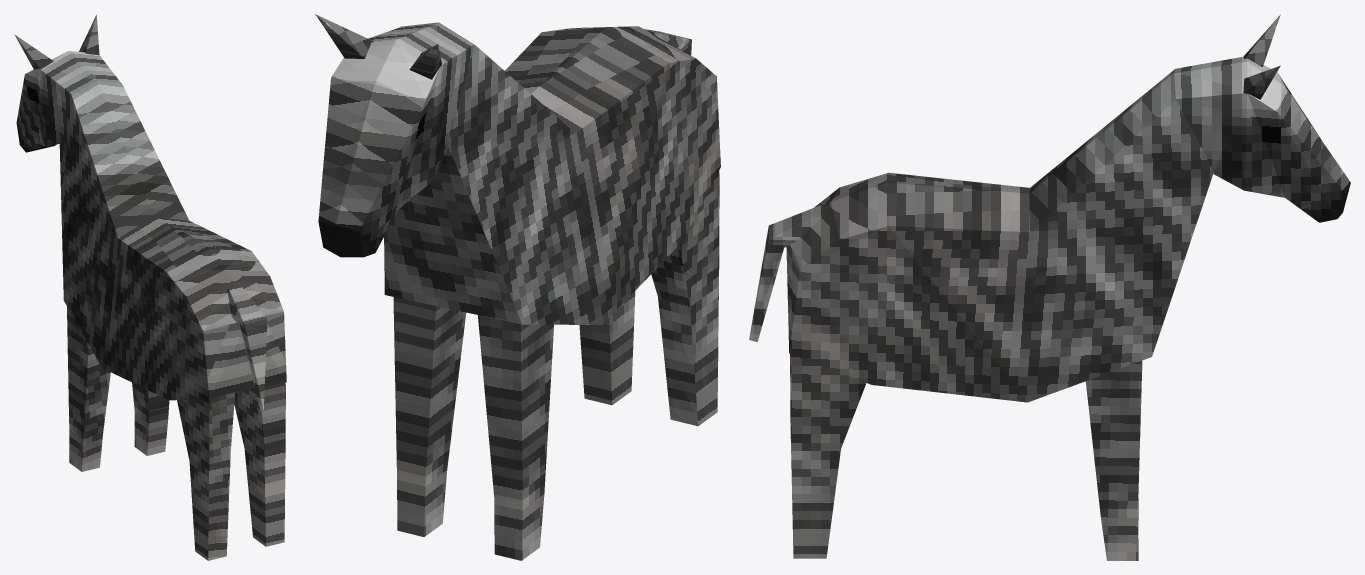
The model's file is Zebra_Zebra.glb.
3 renders of one model, left to right at view 1: azimuth 30°, elevation 25°; view 2: azimuth 150°, elevation 25°; view 3: azimuth 270°, elevation 25°, orthographic. The views are drawn at different scales.
Parts seen in each view (by area): view 1: Body, Leg3, Leg4, Head, Leg1, Leg2; view 2: Body, Head, Leg1, Leg2, Leg3, Leg4; view 3: Body, Head, Leg4, Leg2.
Part boxes in pixels (x1,y1,x2,y2): Body: (59, 81, 286, 411); Leg3: (177, 392, 234, 560); Leg4: (234, 383, 285, 546); Head: (14, 15, 120, 152); Leg1: (67, 307, 110, 471); Leg2: (132, 382, 169, 455); Body: (384, 22, 720, 324); Head: (315, 14, 473, 257); Leg1: (478, 315, 553, 560); Leg2: (393, 297, 466, 536); Leg3: (651, 171, 719, 426); Leg4: (579, 291, 635, 405); Body: (749, 69, 1213, 402); Head: (1174, 14, 1350, 222); Leg4: (790, 354, 866, 558); Leg2: (1085, 361, 1142, 560).
Bounding box in the file's own units: 0.4875 × 1.72 × 1.89.
1 material, 1 textured.
